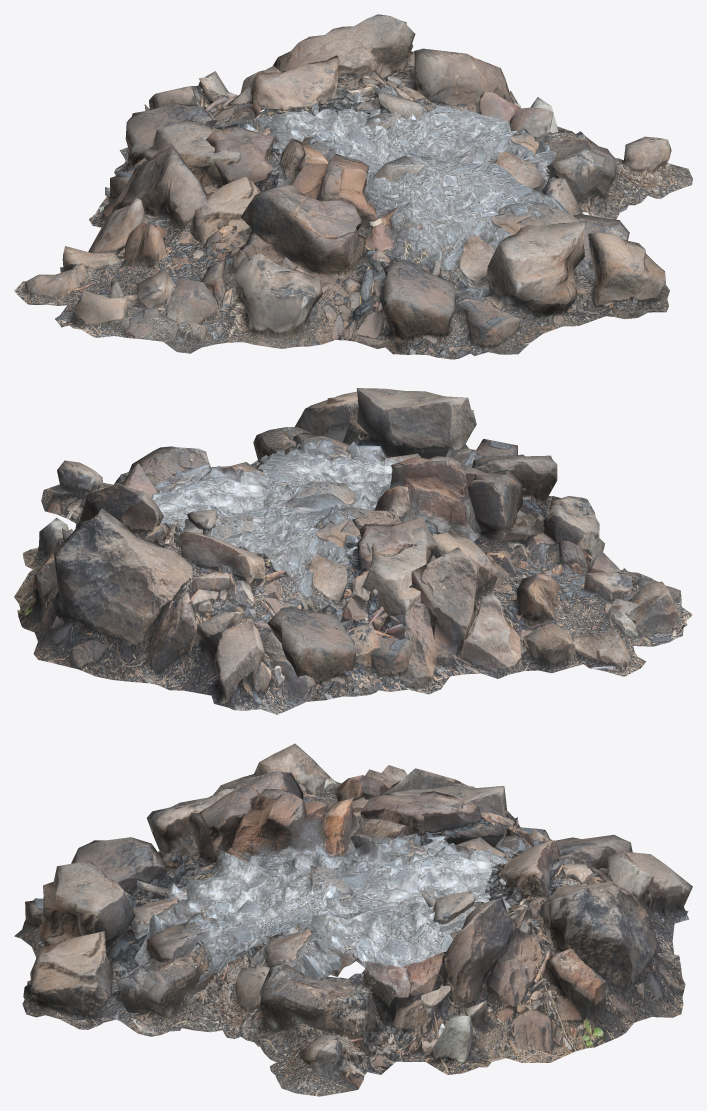
Rendered from SM_Campfire_01_05.fbx.
3 views of the same model, one above another, from view 1: azimuth 30°, elevation 25°; view 2: azimuth 150°, elevation 25°; view 3: azimuth 270°, elevation 25° (orthographic). The views are drawn at different scales.
Visible parts, largest first — view 1: sm_Campfire_01_05_LOD0; view 2: sm_Campfire_01_05_LOD0; view 3: sm_Campfire_01_05_LOD0.
Part boxes in pixels (box(x1,y1,x2,y2)): sm_Campfire_01_05_LOD0: box(14, 14, 692, 359); sm_Campfire_01_05_LOD0: box(14, 388, 692, 714); sm_Campfire_01_05_LOD0: box(14, 743, 692, 1096).
Size of the model in its own units: 131 by 147 by 26.39.
